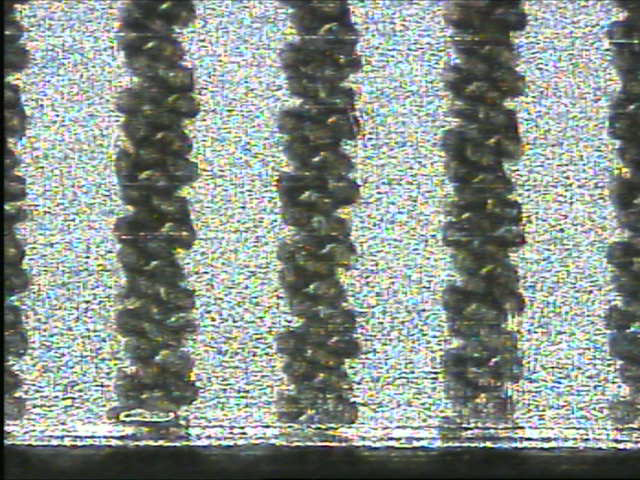line: (104, 1, 201, 440), (271, 1, 367, 436), (437, 1, 533, 435)
